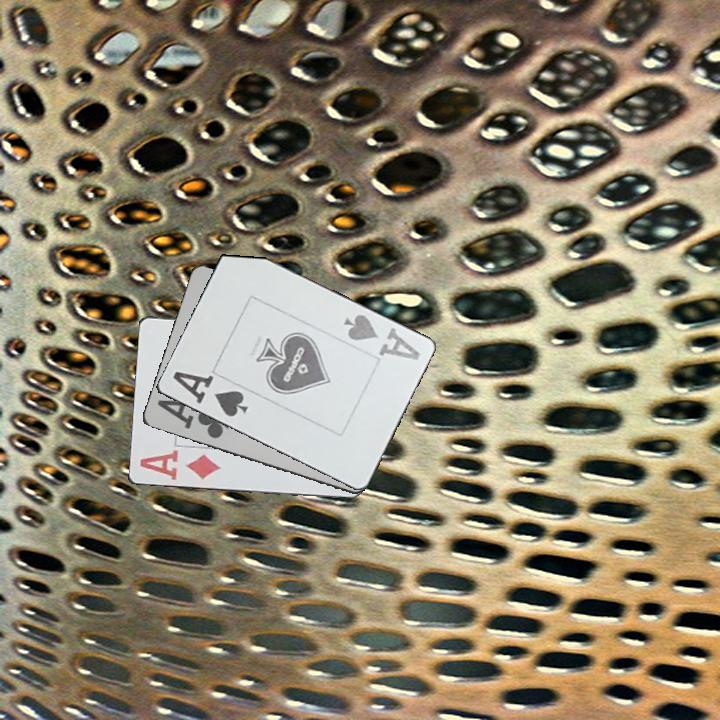Ac: (153, 396, 233, 442)
Ad: (136, 447, 223, 483)
As: (340, 311, 423, 364), (168, 368, 251, 420)
